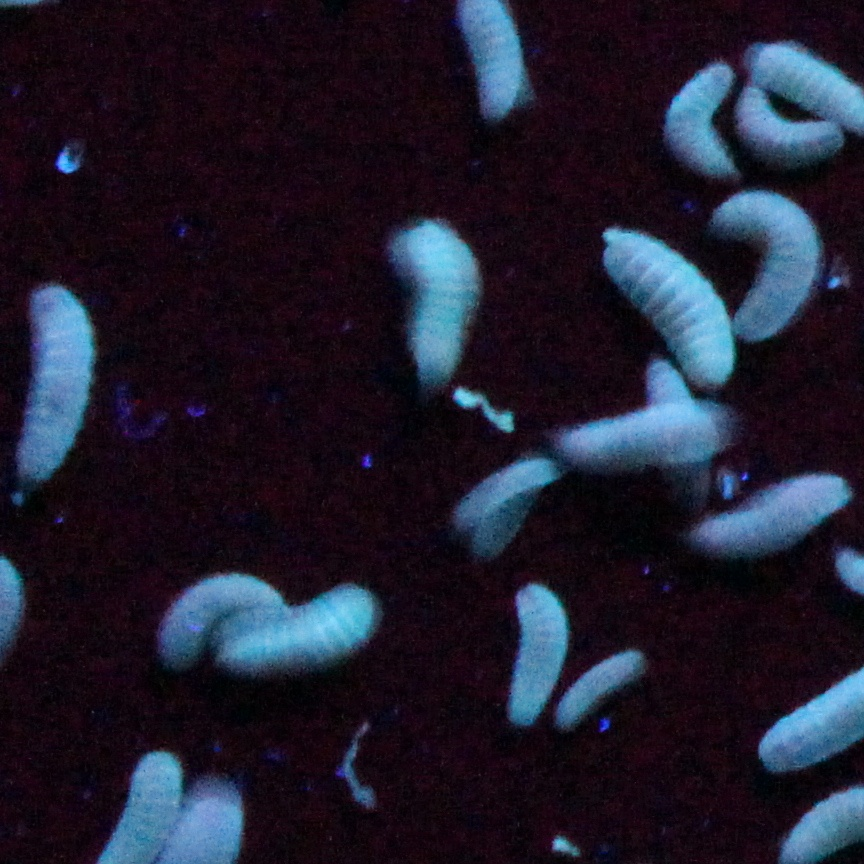larve: (377, 217, 482, 374), (594, 234, 717, 368), (14, 285, 91, 474), (711, 205, 822, 334), (699, 474, 837, 562), (225, 585, 388, 657), (642, 51, 737, 174), (499, 577, 565, 731), (565, 408, 745, 462), (165, 574, 274, 654), (471, 457, 551, 562), (551, 657, 654, 725)
